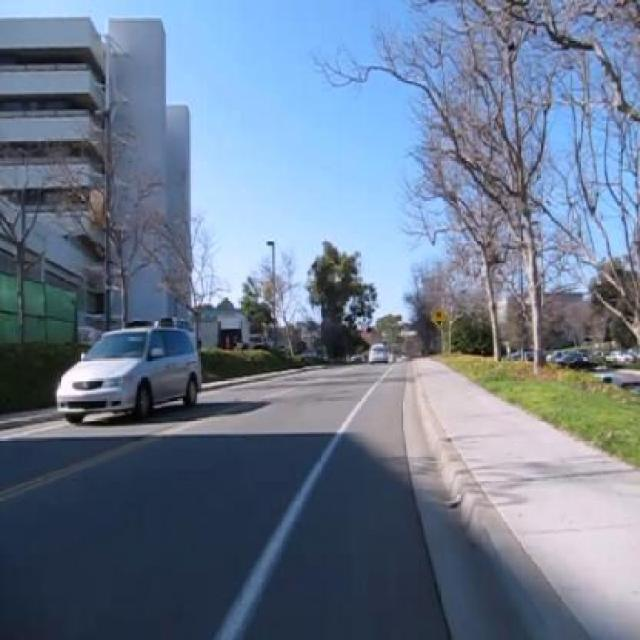signalAhead: (429, 306, 447, 330)
